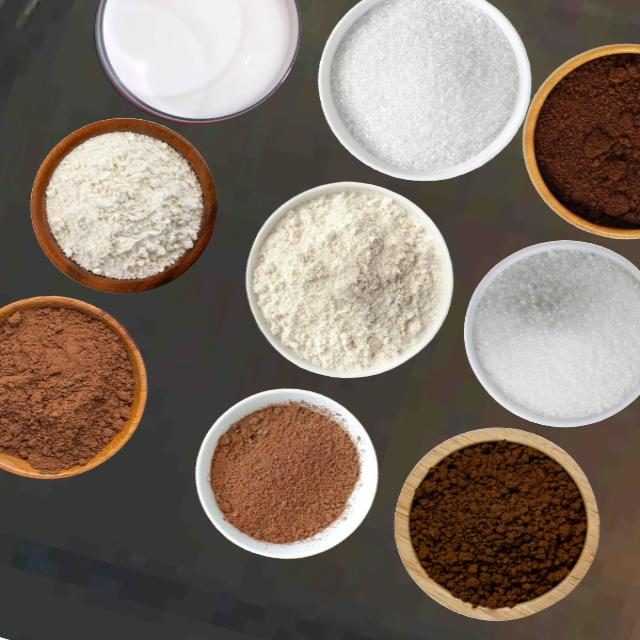Cocoa: (0, 301, 137, 475), (209, 399, 360, 544)
Coffee: (408, 438, 586, 609), (532, 47, 639, 230)
Flour: (251, 188, 443, 372), (44, 130, 203, 280)
Sugar: (329, 0, 519, 172), (472, 247, 639, 419)
